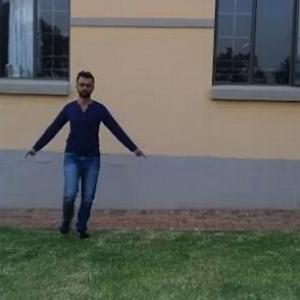land: (34, 78, 130, 226)
